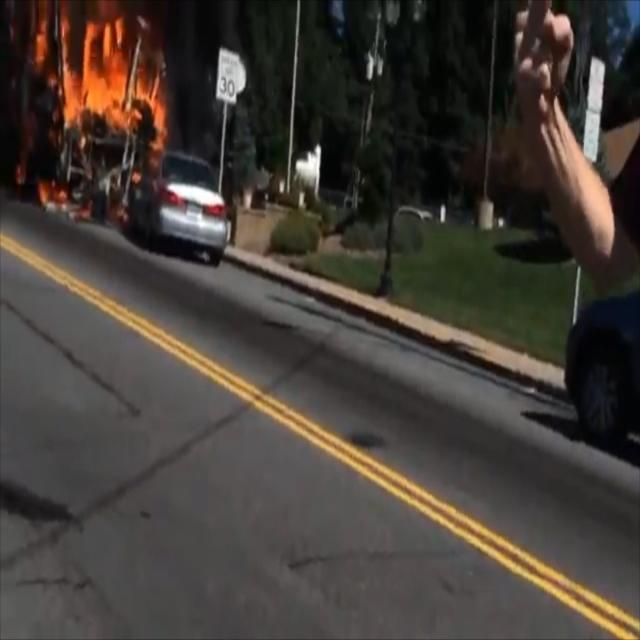fire: (4, 10, 165, 208)
